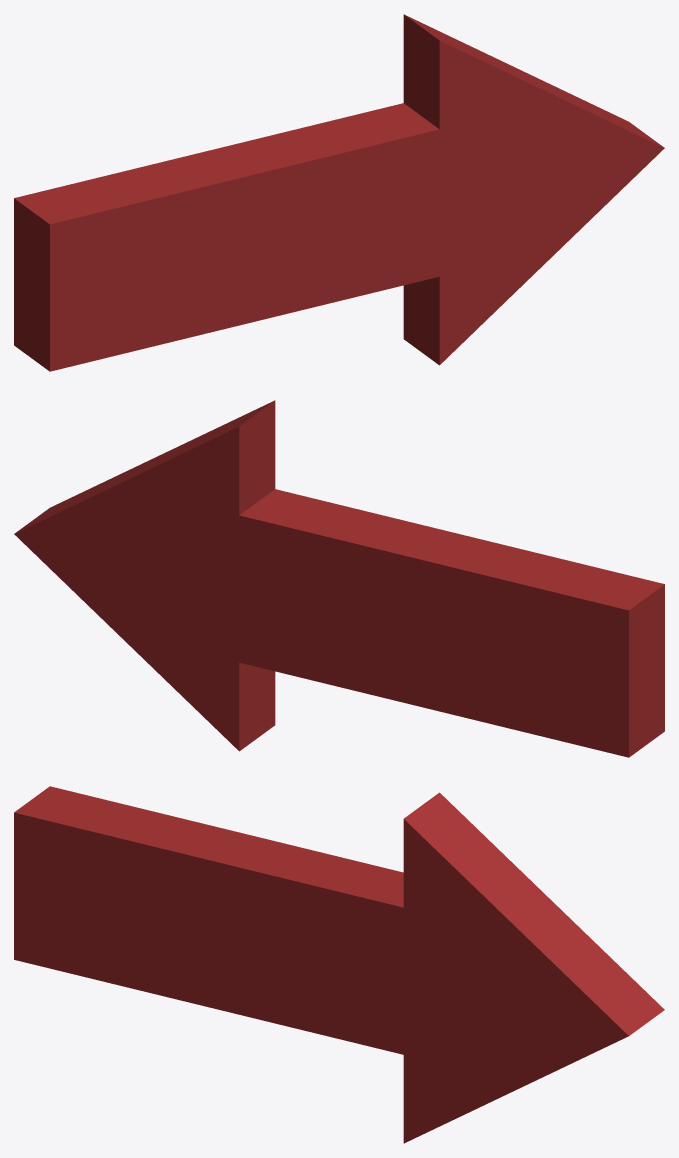
File: Guide_Arrow.fbx
3 renders of one model, top to bottom at view 1: azimuth 30°, elevation 25°; view 2: azimuth 150°, elevation 25°; view 3: azimuth 330°, elevation 25°, orthographic.
Parts seen in each view (by area): view 1: Arrow; view 2: Arrow; view 3: Arrow.
Part boxes in pixels (<box>): Arrow: <box>14,14,664,371</box>; Arrow: <box>14,400,664,757</box>; Arrow: <box>14,786,664,1143</box>.
Bounding box in the file's own units: 2.2 × 1.11 × 0.2223.
